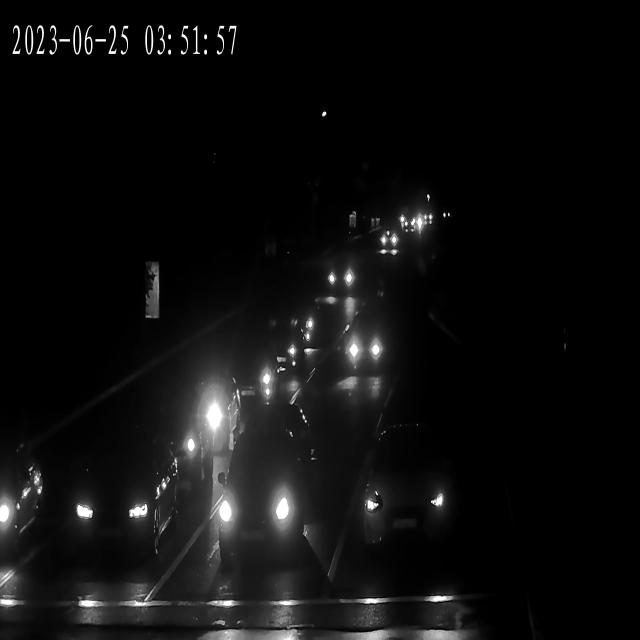Car: (48, 440, 176, 561), (351, 438, 455, 544), (216, 462, 305, 568), (160, 366, 240, 456), (0, 438, 48, 565), (218, 342, 279, 400), (244, 315, 311, 363), (242, 325, 308, 373), (256, 305, 317, 350), (341, 321, 388, 375), (323, 258, 360, 292), (374, 230, 398, 251), (377, 232, 400, 253), (394, 212, 416, 229), (397, 215, 416, 232), (402, 216, 419, 232), (417, 212, 433, 226)
